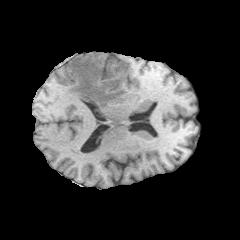glioma: (68, 54, 129, 108)
